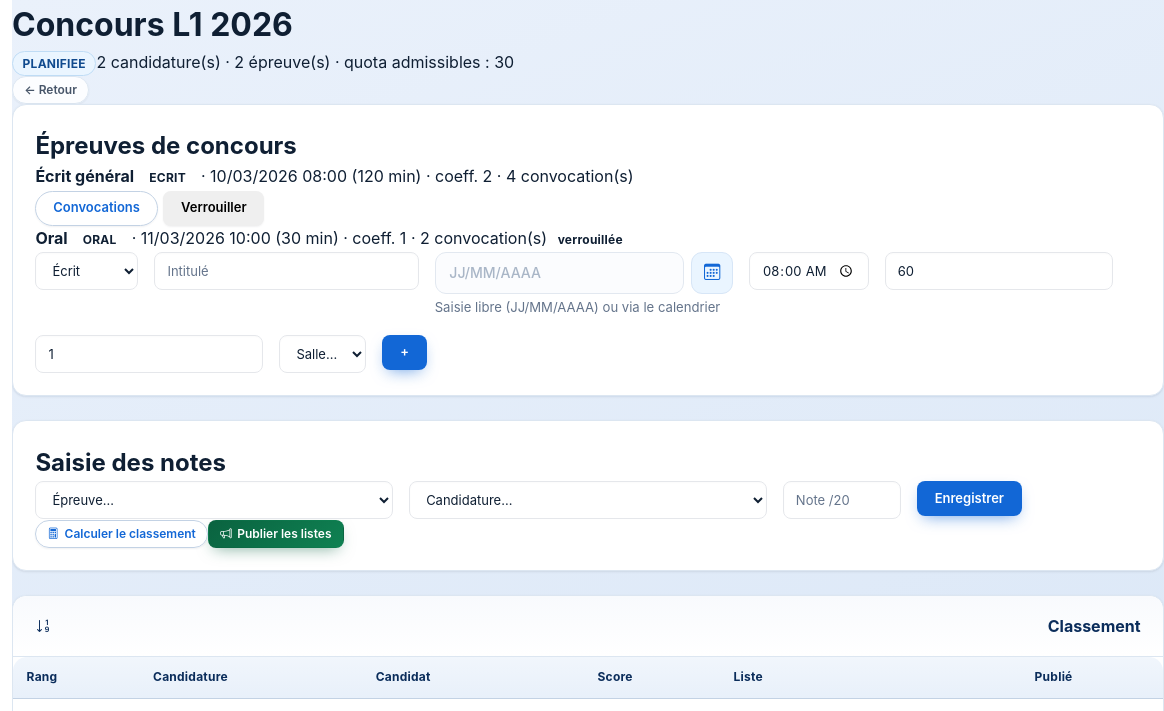
Test: CampagneDetail — ajout d’épreuve › ajoute une épreuve orale en salle avec le payload typé, notifie et réinitialise
The image size is (1164, 711).
Expected: the heading "Concours L1 2026" is shown, [12,5,293,44]
Select "Oral" in the 1st dropdown at point(87, 271), box [35,252,138,290]
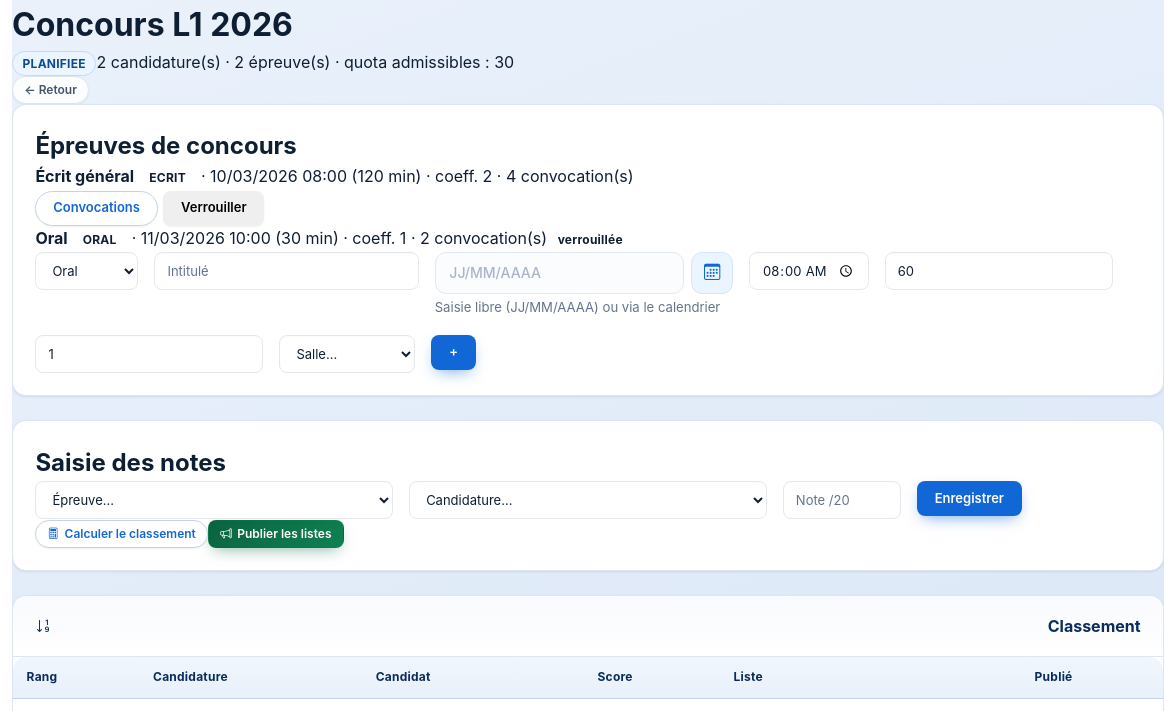
Select "Salle A (50 pl.)" in the 2nd dropdown at point(347, 354), box [279,335,415,373]
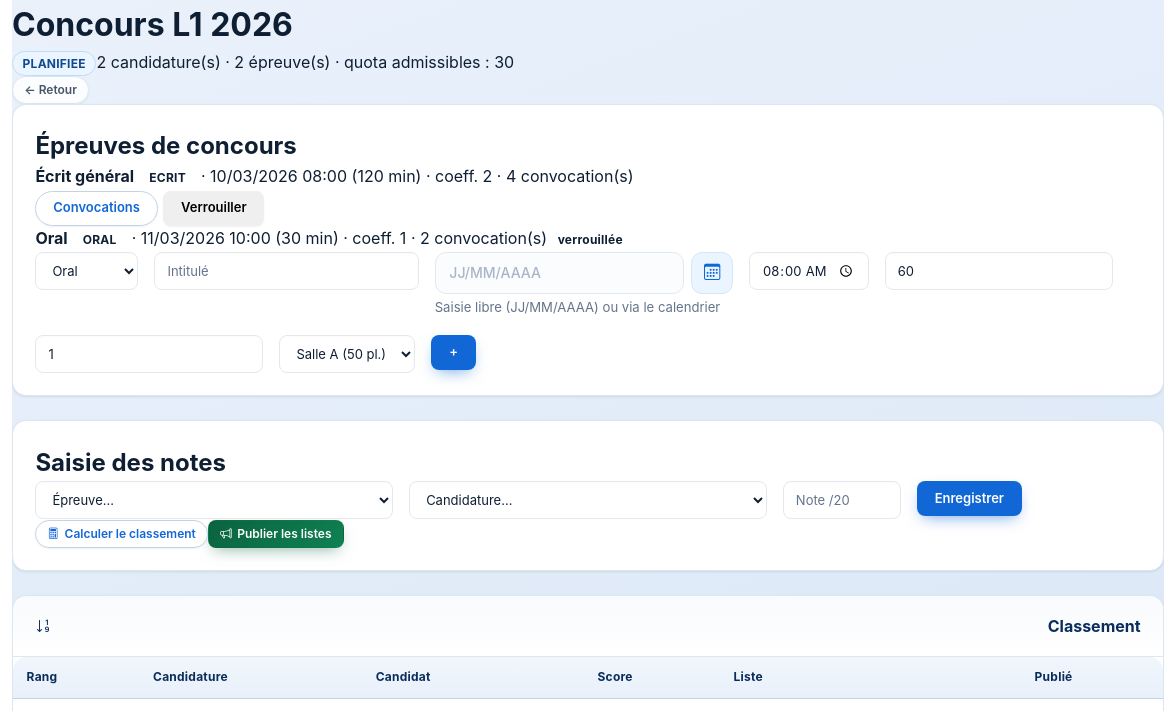
Type "Entretien individuel" into the field with placeholder "Intitulé" at point(287, 271), box [154,252,419,290]
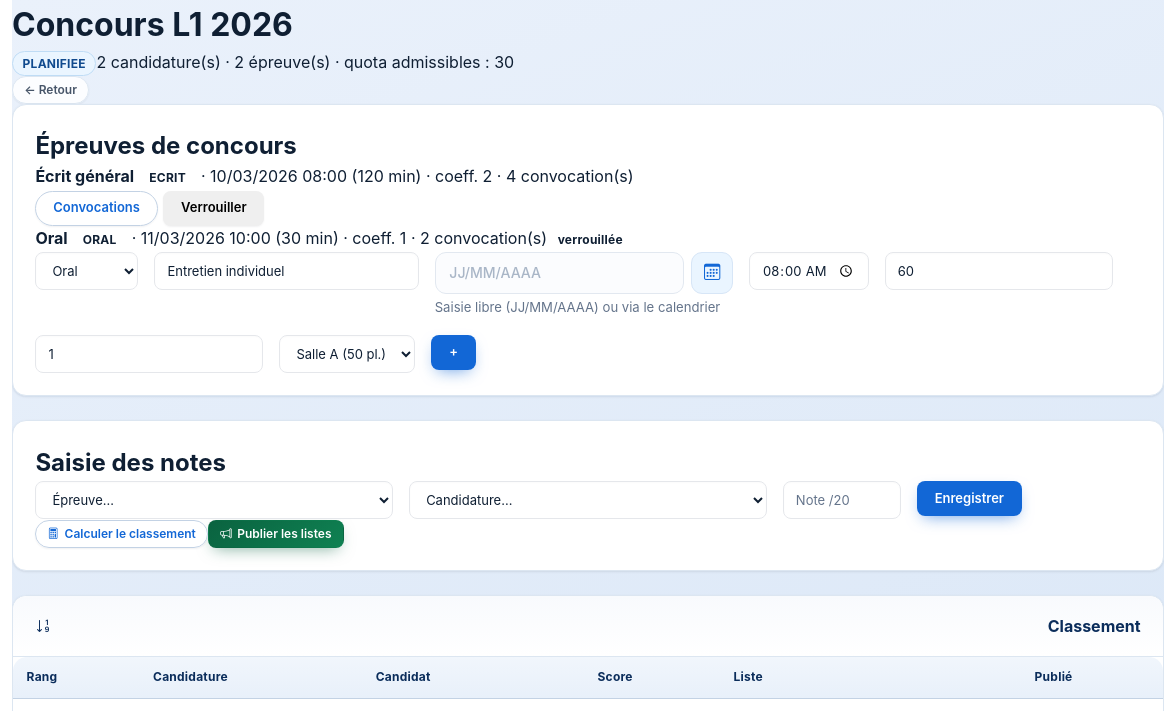
Type "12/03/2026" into the field with placeholder "JJ/MM/AAAA" at point(559, 273), box [435,252,684,294]
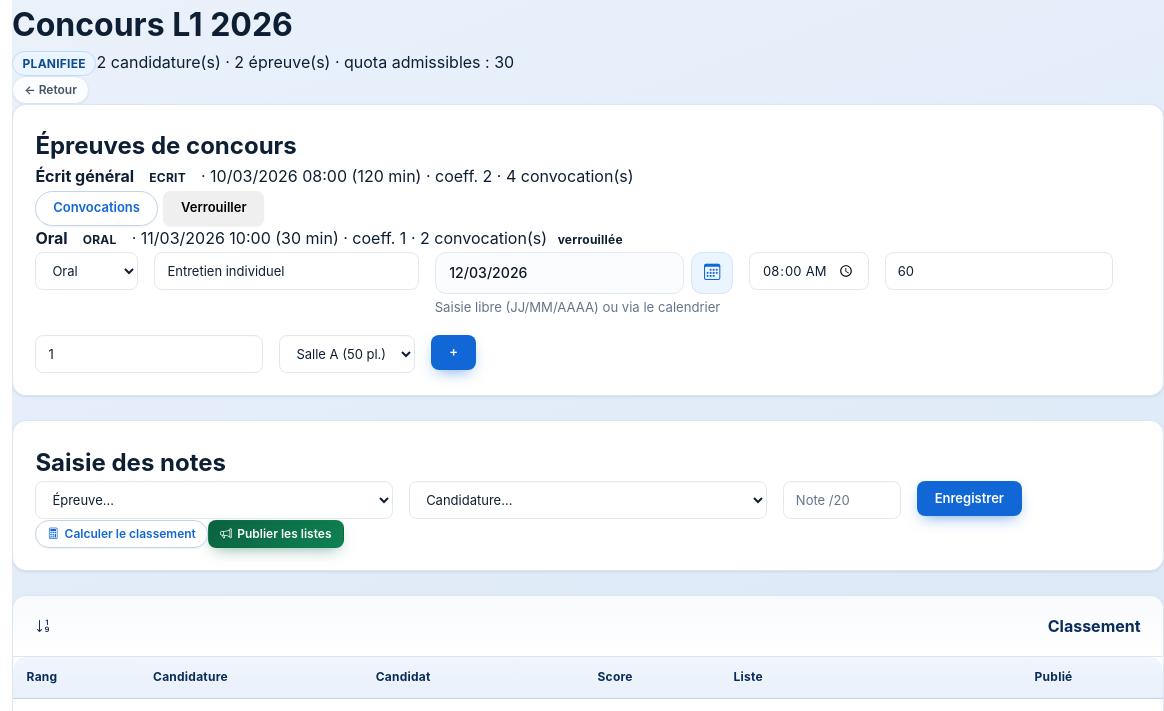
Replace the text in the time field named "Heure de début" with "14:00" at point(809, 271), box [749,252,869,290]
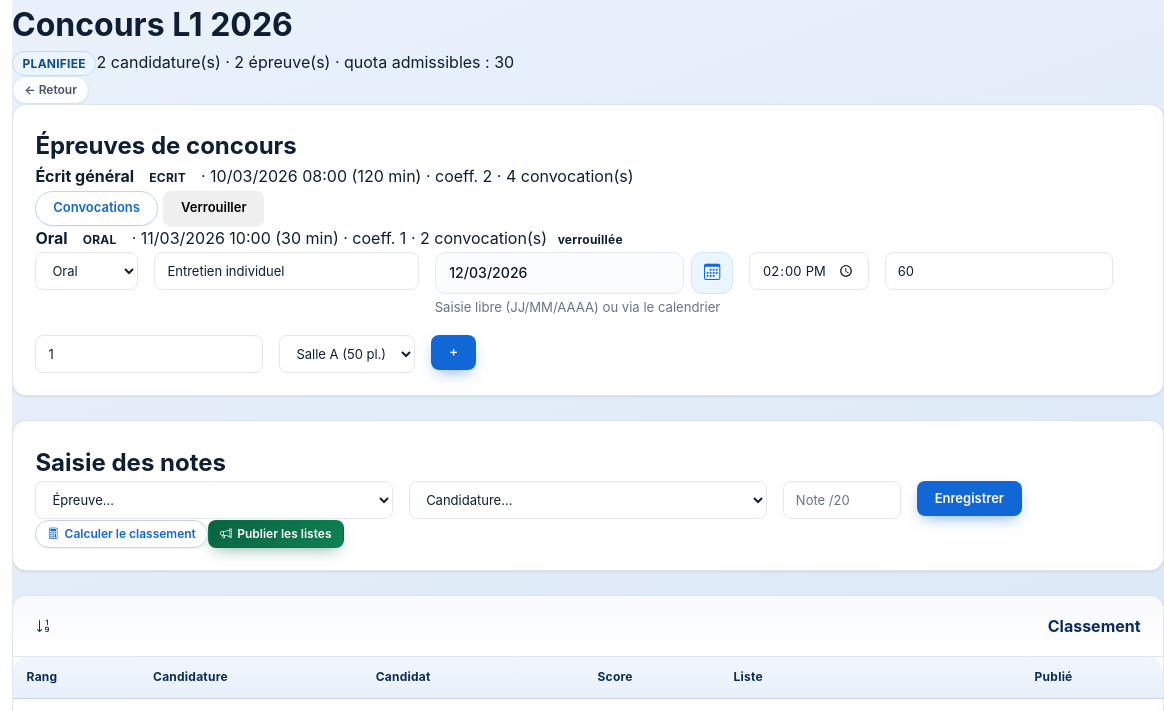
Click the button "+" at point(454, 352), box [431,335,476,370]
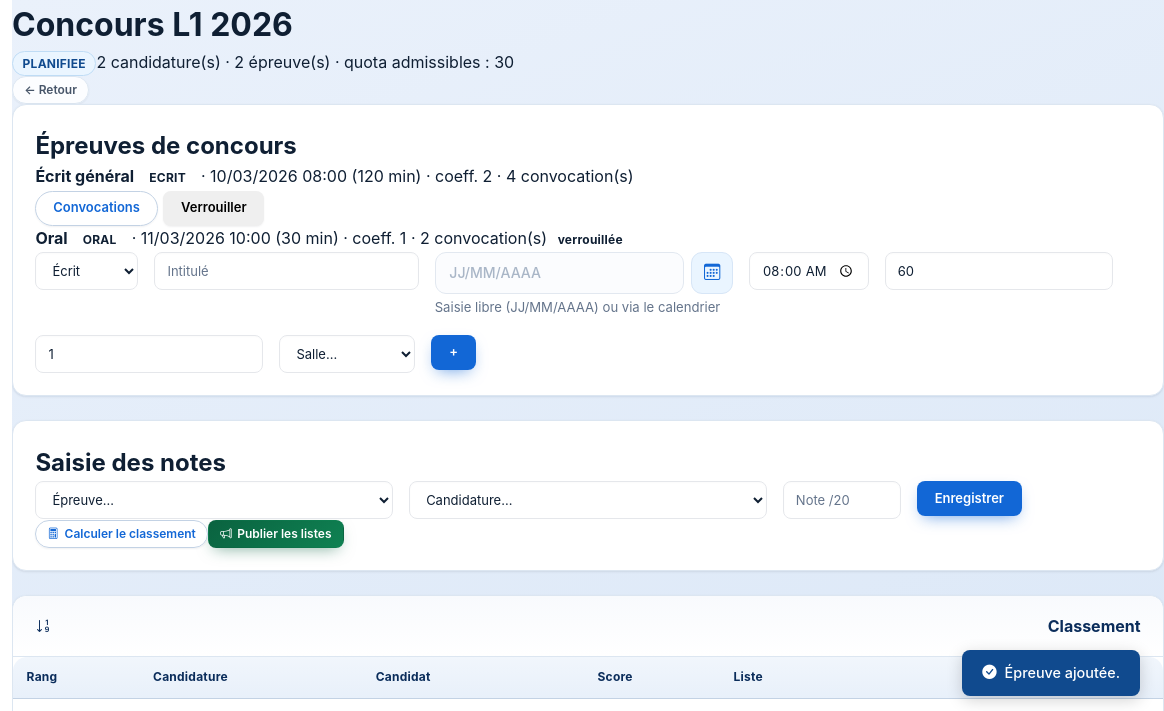
Expected: the text "Épreuve ajoutée." is shown, [962,650,1140,696]
Expected: the field with placeholder "Intitulé" is empty, [154,252,419,290]
